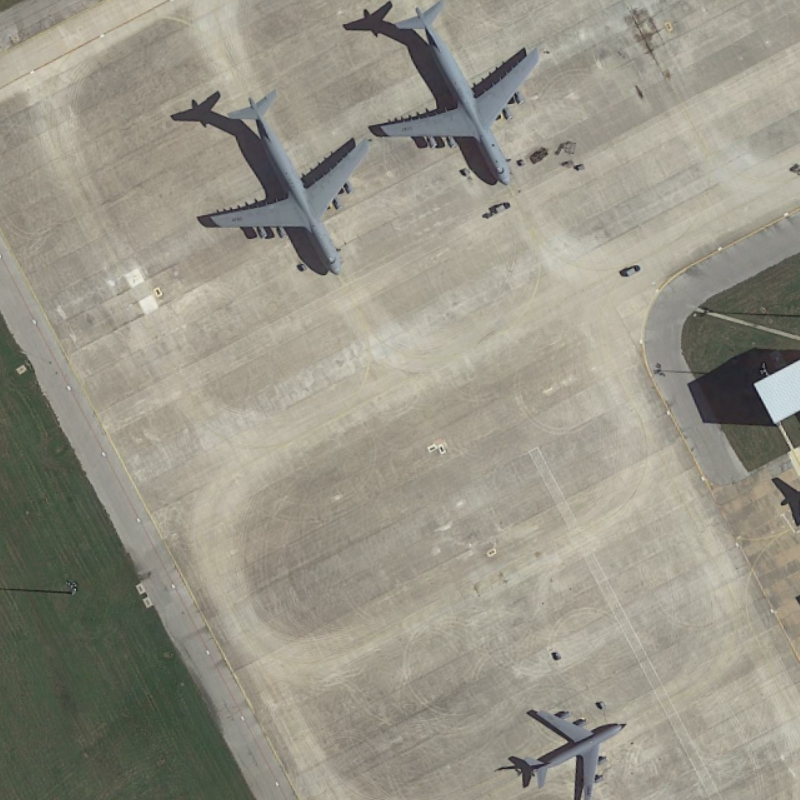A14: (508, 692, 630, 800)
A4: (195, 82, 373, 287), (367, 1, 546, 193)
